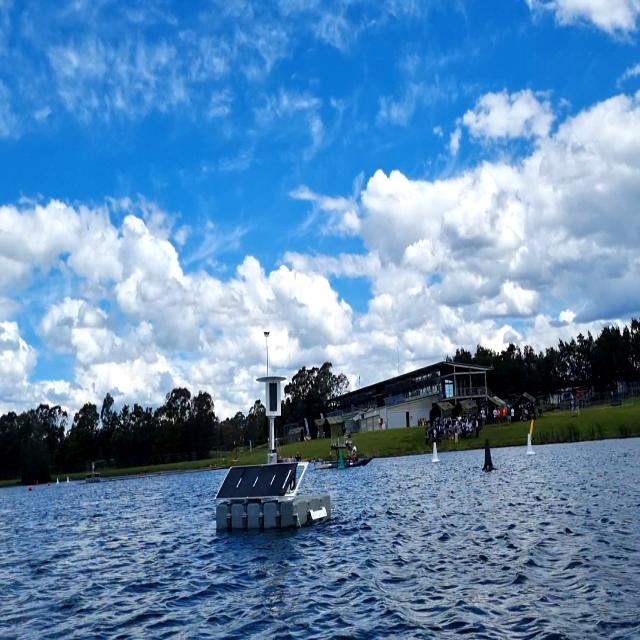led: (267, 381, 280, 414)
